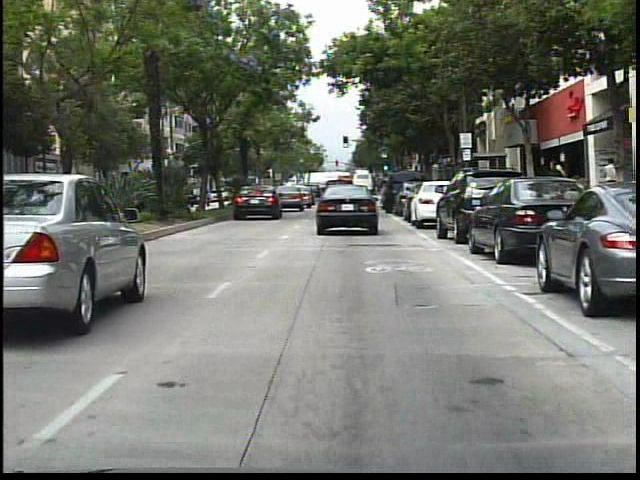person: (598, 151, 623, 218), (538, 157, 563, 222), (544, 159, 571, 219)
